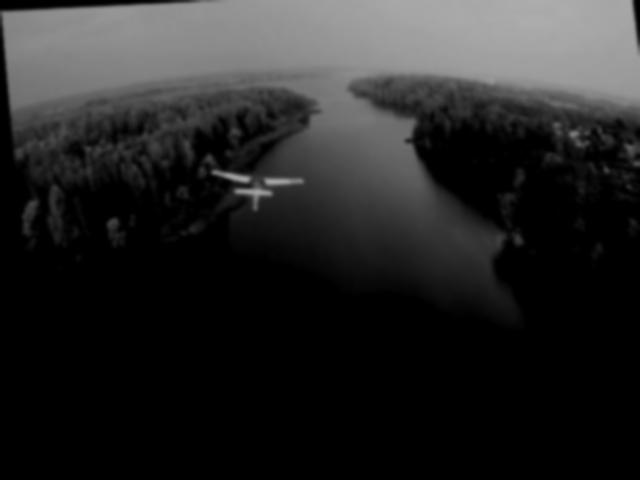hedef: (191, 151, 318, 230)
